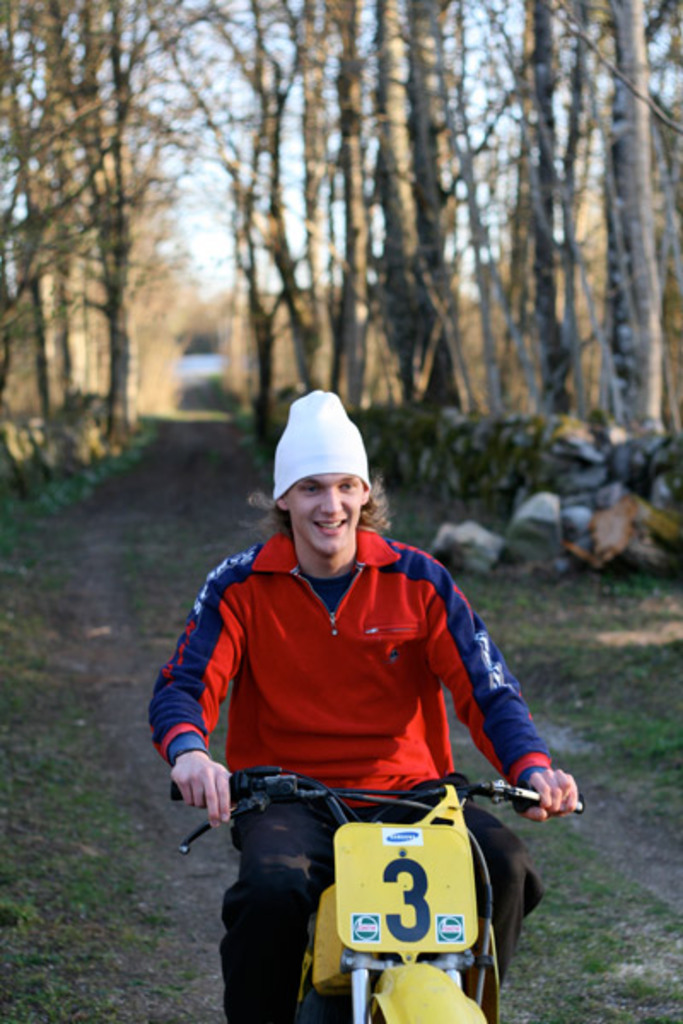Person: (146, 387, 586, 1024)
